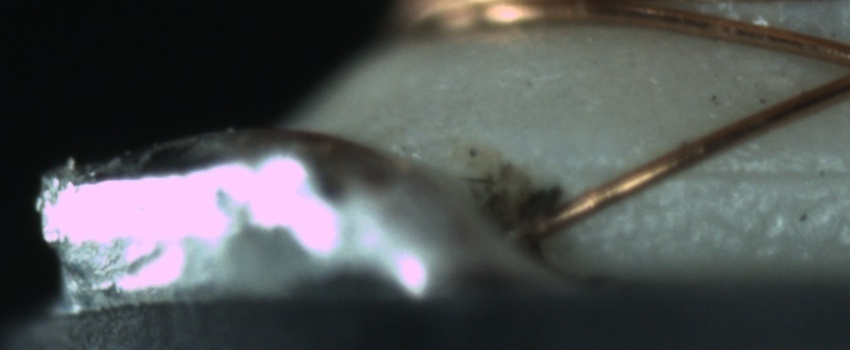CL: (831, 45, 850, 94)
DL: (609, 138, 850, 205)
